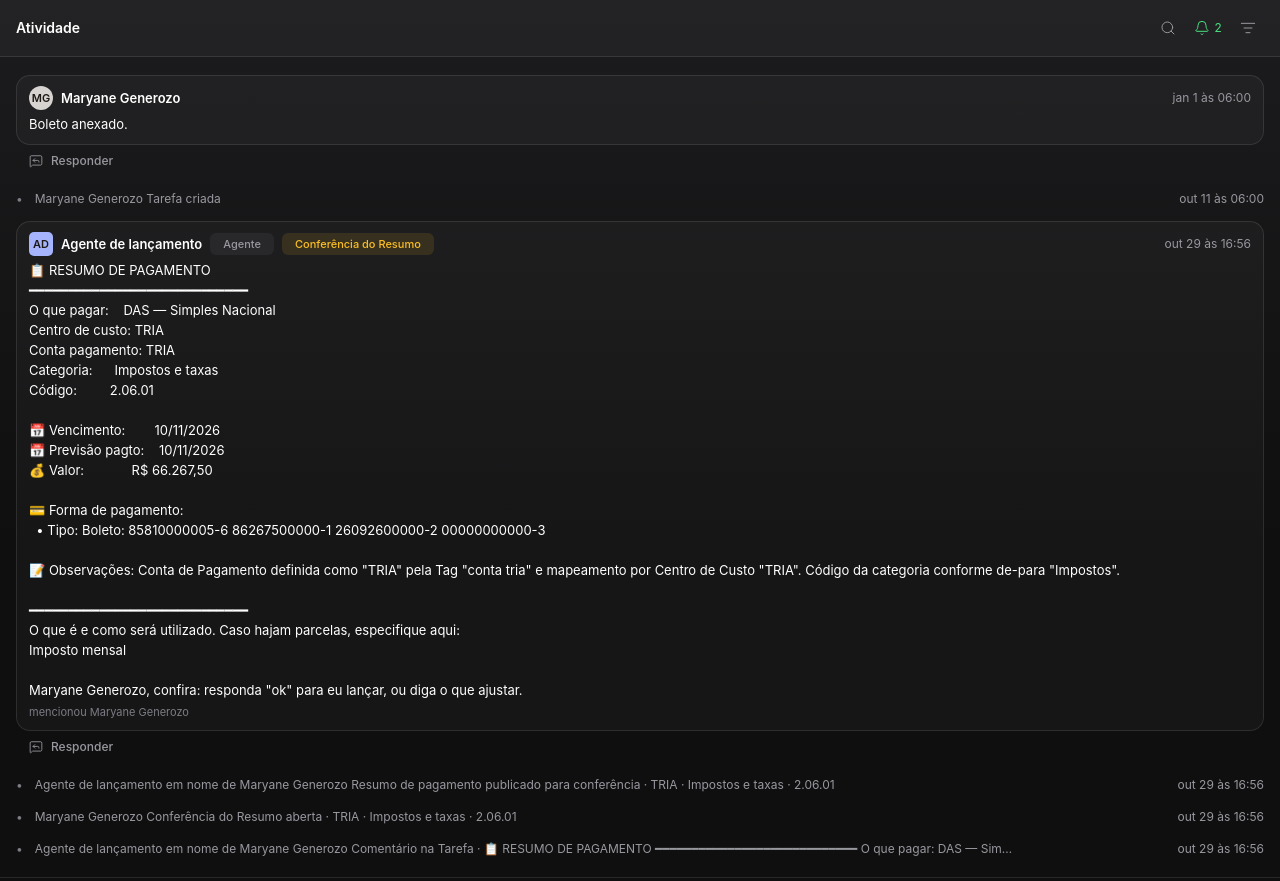
Test case: (a) todo Comentário tem "Responder", e ele abre o compositor de resposta na linha › um botão por Comentário; o compositor tem rótulo, placeholder, envio e Cancelar; um aberto por vez
The image size is (1280, 881).
Expected: the button "Responder" below "MG" is shown, [16, 145, 126, 177]
Click the button "Responder" below "mencionou": (71, 747) [16, 731, 126, 763]
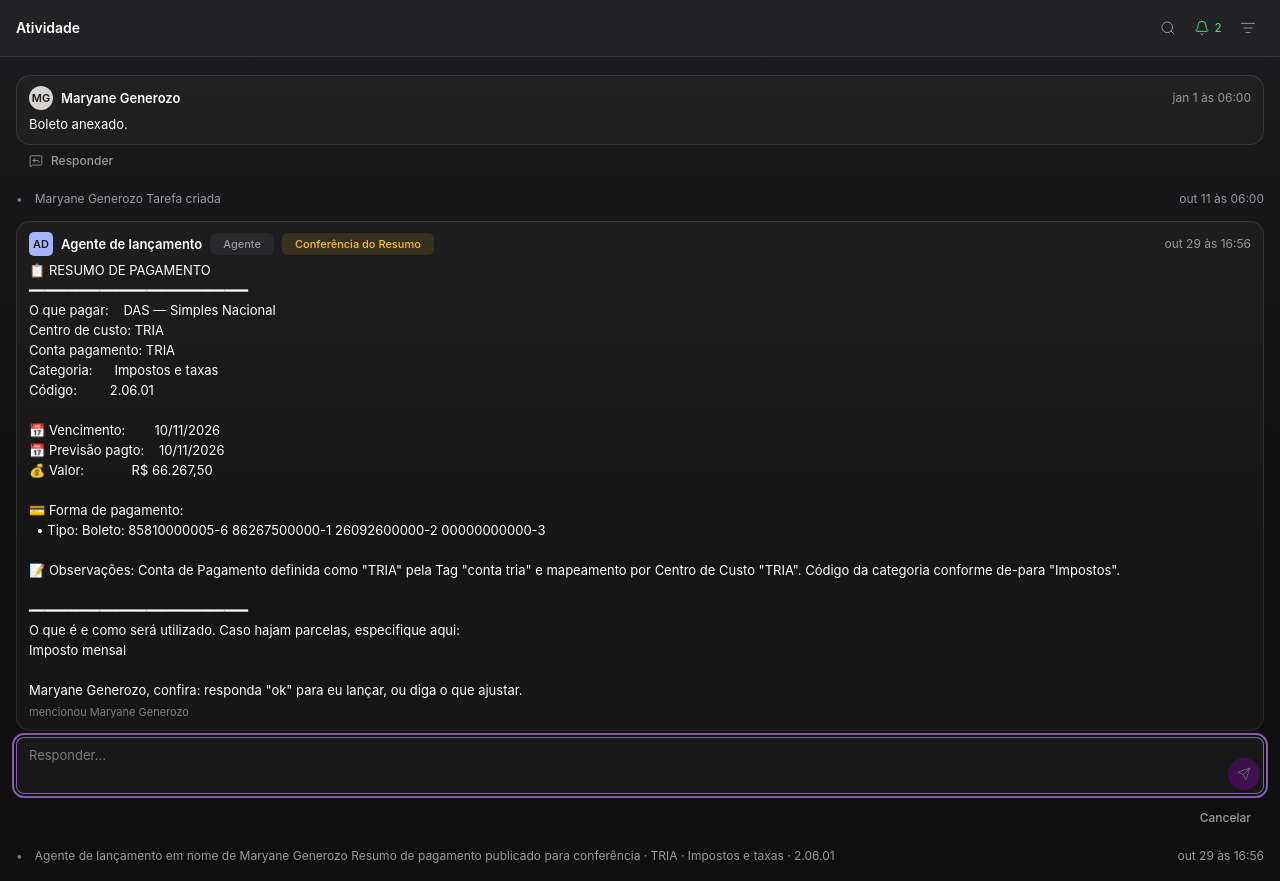
Expected: the button named "Enviar resposta" is shown, [1228, 758, 1260, 790]
Expected: the button "Cancelar" is shown, [1187, 802, 1264, 834]
# Abrir em outro Comentário fecha o primeiro.
Click the button "Responder": (71, 161) [16, 145, 126, 177]
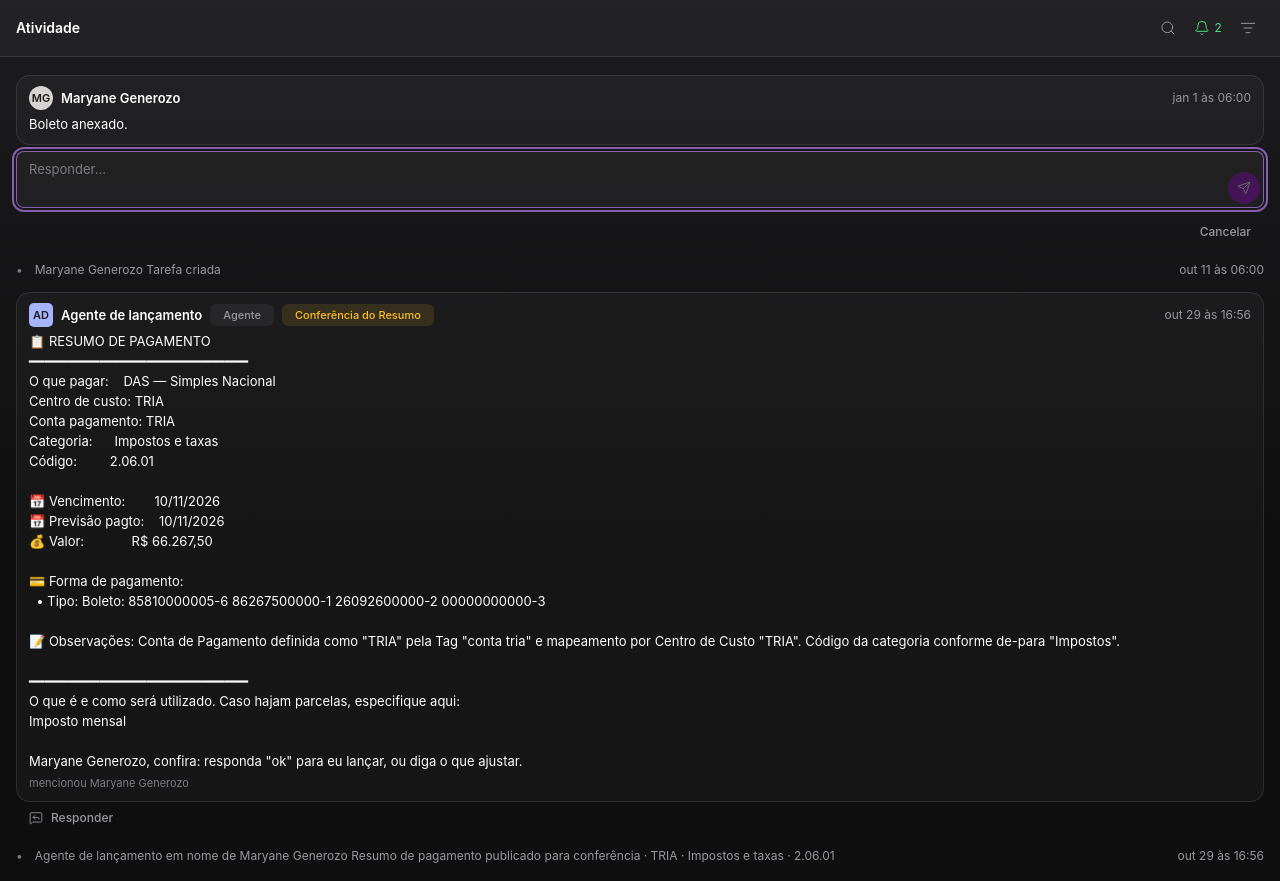
Expected: the number of text boxes named "Resposta no fio" is 1, [16, 151, 1264, 208]
Expected: the button "Responder" is shown, [16, 802, 126, 834]
